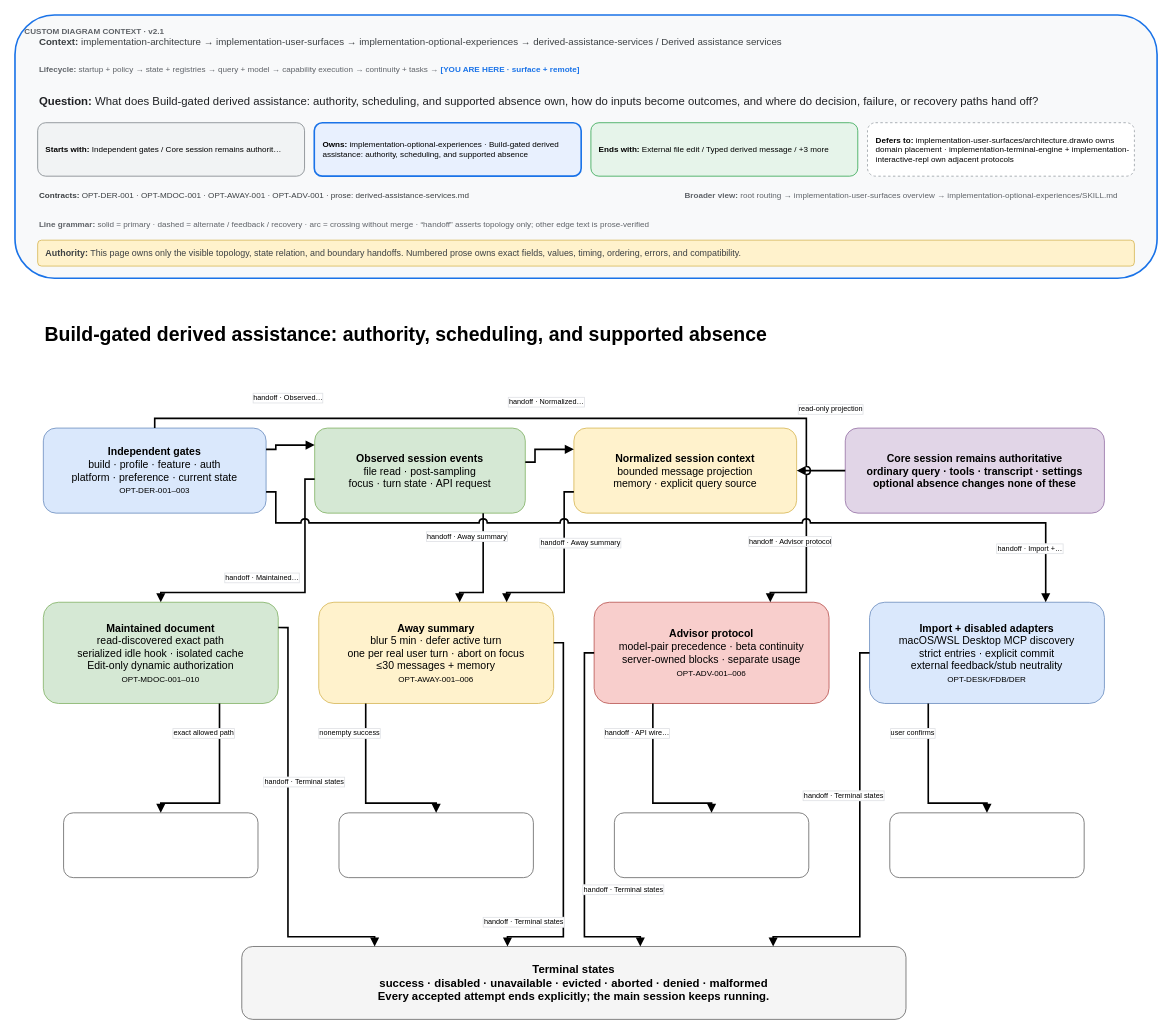
Image size: 1171x1034. Some labels were removed from this diagram. The centre of each missing label's shape, as x and y in pixels:
"API wire projection advisor blocks never local tool calls" goes at (x=711, y=845).
"Explicit settings UI validated Desktop entries or no-op" goes at (x=986, y=845).
"External file edit exact tracked document only" goes at (x=160, y=845).
"Typed derived message away_summary · not user/assistant turn" goes at (x=435, y=845).
